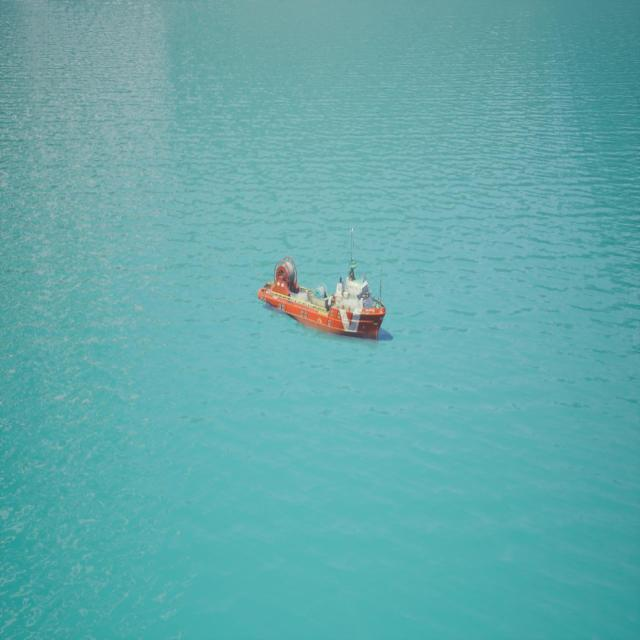tug boat: (257, 237, 389, 343)
